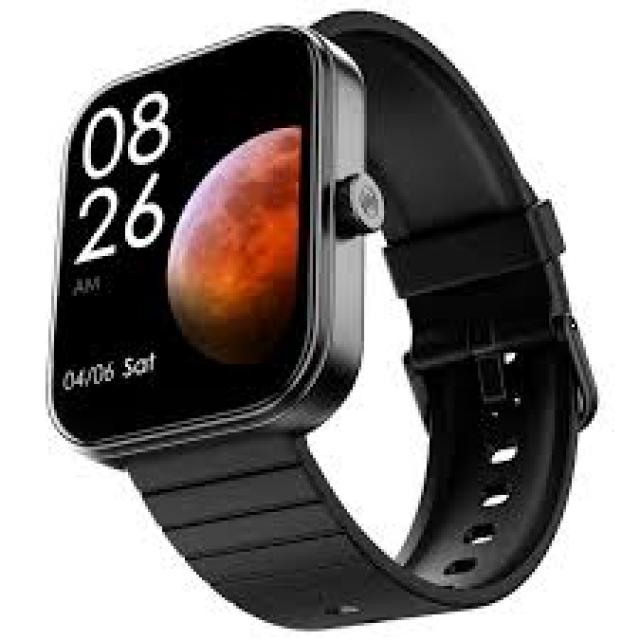objects: (48, 11, 594, 626)
